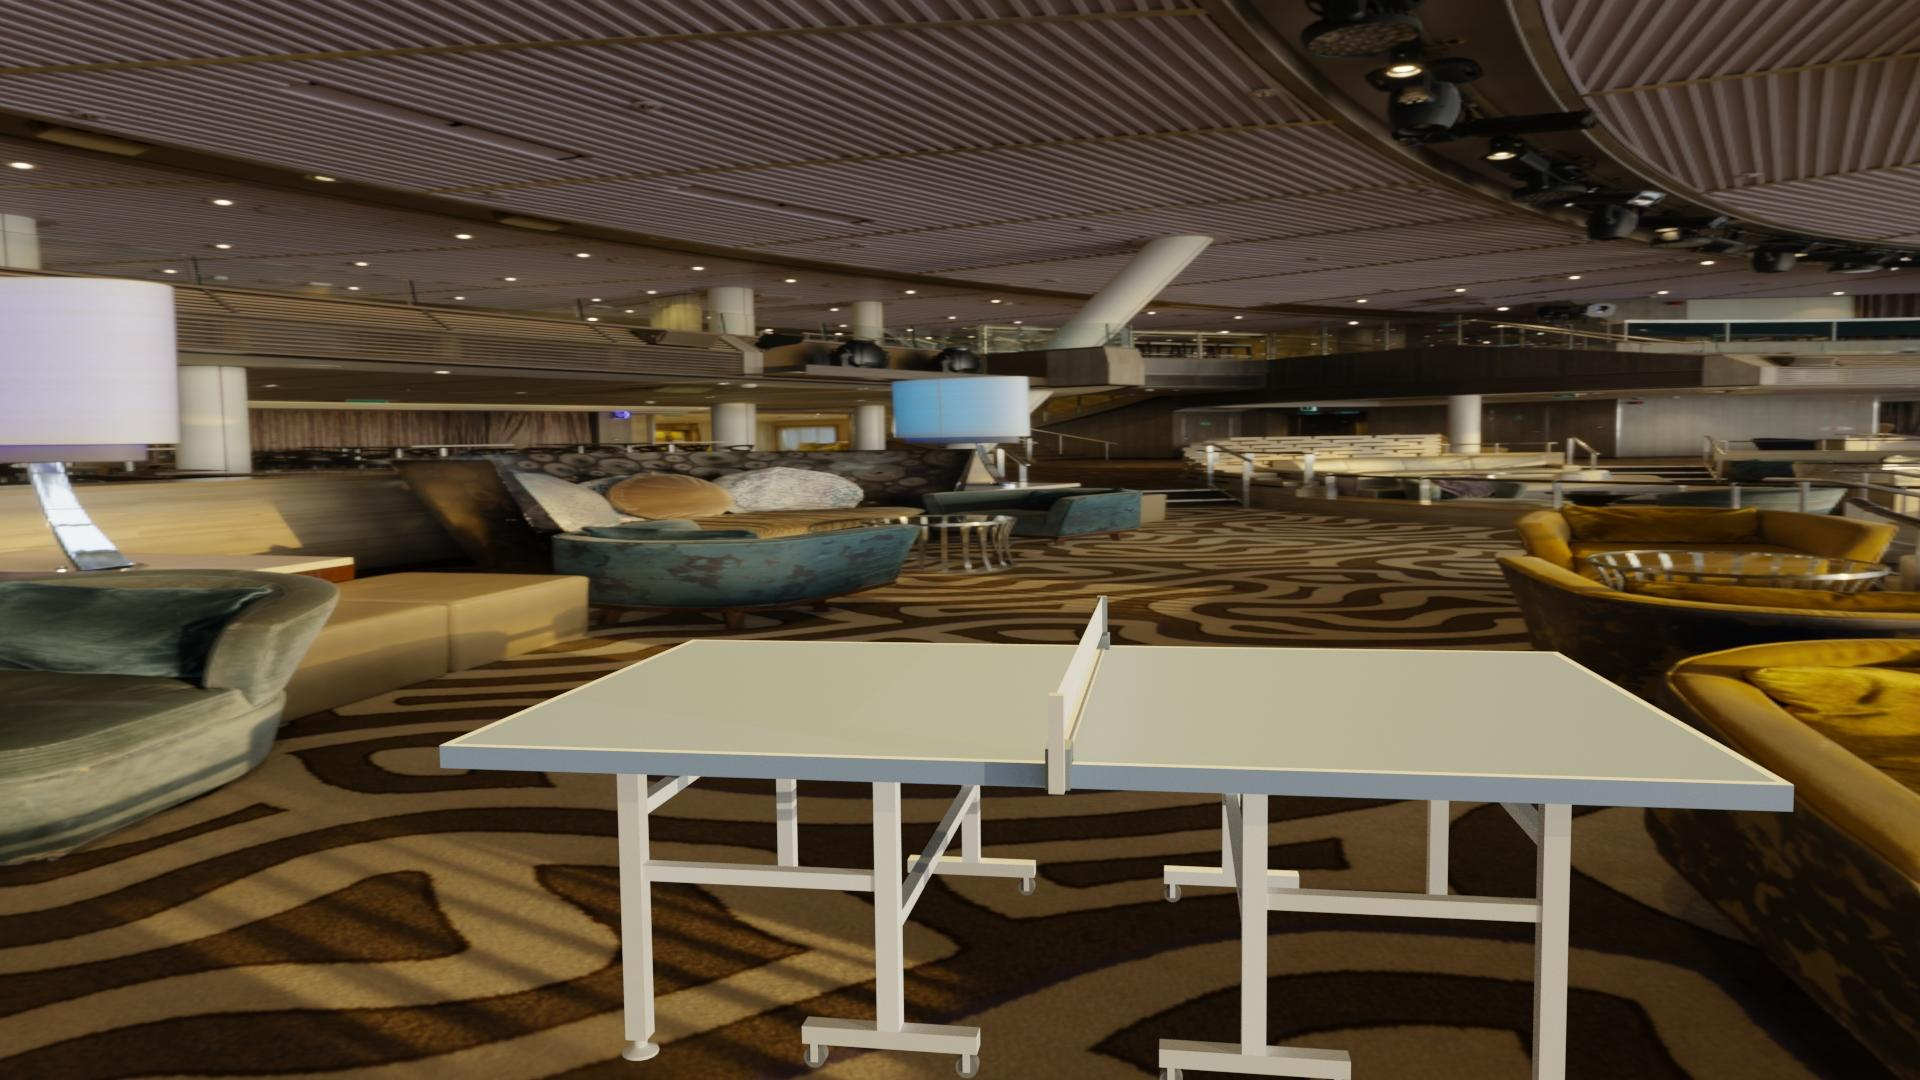table: (452, 641, 1778, 782)
